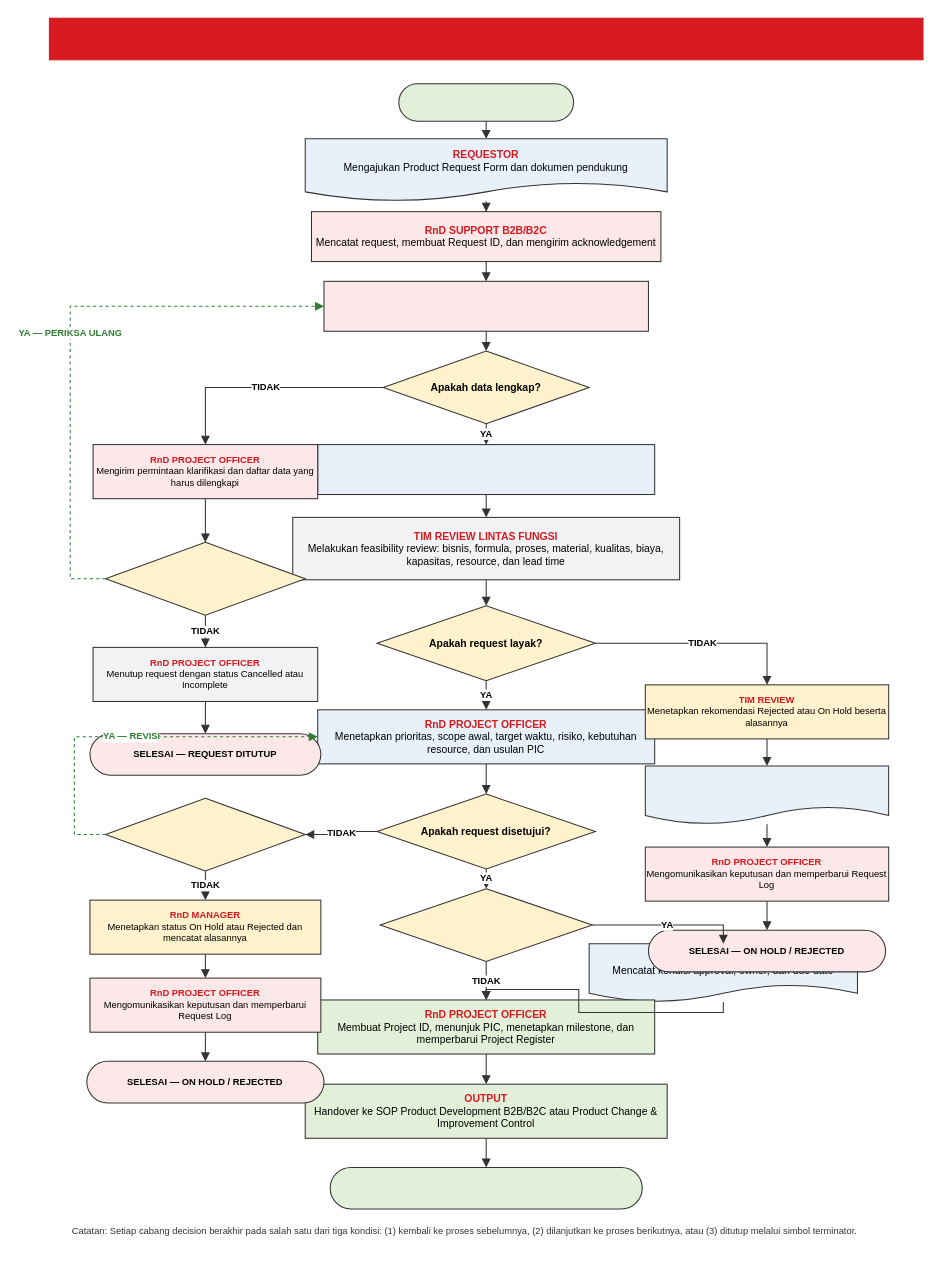
Some shapes in this 941 by 1279 pixel diagram are drawn without their labels. Here are the shapes that lost their labels. From the top down, the centre of each, then its label:
point (485, 38): FLOW SOP PENERIMAAN REQUEST PRODUK
point (486, 102): MULAI
point (485, 305): RnD PROJECT OFFICER Memeriksa kelengkapan minimum brief dan dokumen pendukung
point (486, 469): RnD PROJECT OFFICER Mengklasifikasikan jenis request dan menentukan rute proses
point (205, 578): Dilengkapi sebelum batas waktu?
point (766, 794): RnD MANAGER Mengesahkan dan mencatat keputusan akhir
point (205, 834): Apakah scope dapat direvisi?
point (485, 924): Apakah approval bersyarat?
point (485, 1187): SELESAI — REQUEST MENJADI PROYEK RnD
